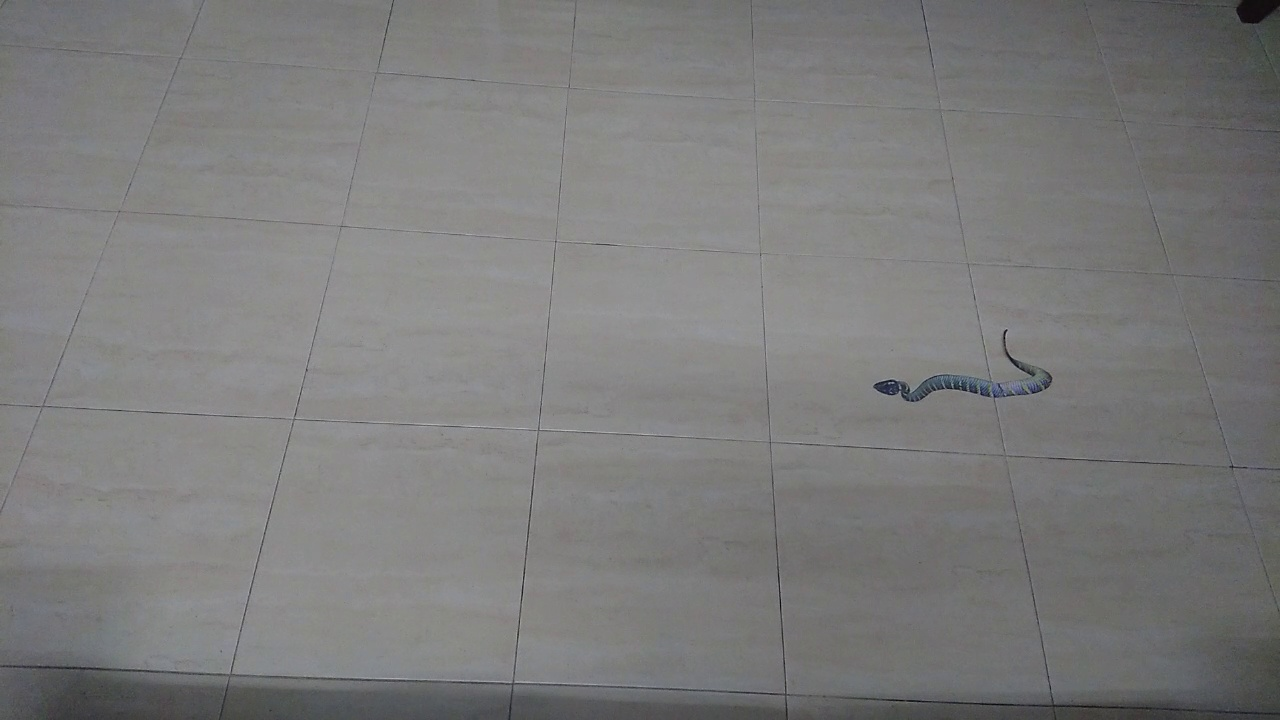snake: (855, 311, 1073, 422)
